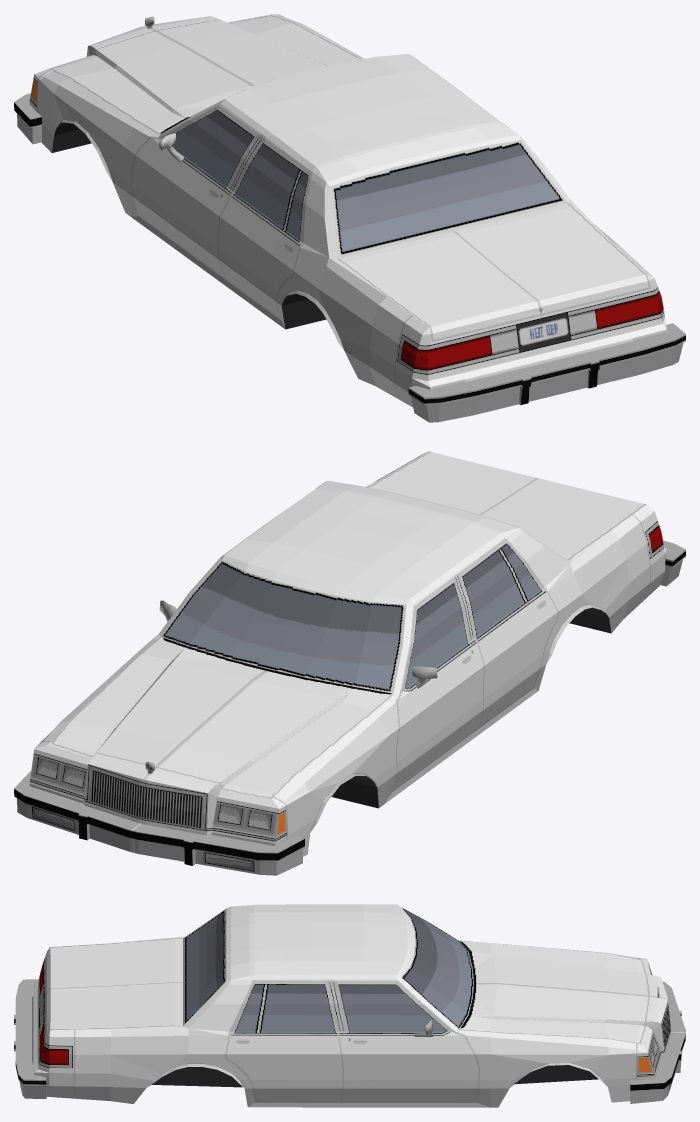
Rendered from 85lesabre.fbx.
3 renders of one model, top to bottom at view 1: azimuth 30°, elevation 25°; view 2: azimuth 150°, elevation 25°; view 3: azimuth 270°, elevation 25°, orthographic. The views are drawn at different scales.
Parts seen in each view (by area): view 1: 85lesaber; view 2: 85lesaber; view 3: 85lesaber.
Boxes of the visible parts, <box> form: 85lesaber: <box>14,14,685,422</box>; 85lesaber: <box>14,451,685,875</box>; 85lesaber: <box>14,904,685,1107</box>.
Bounding box in the file's own units: 2.07 × 1.12 × 5.53.
